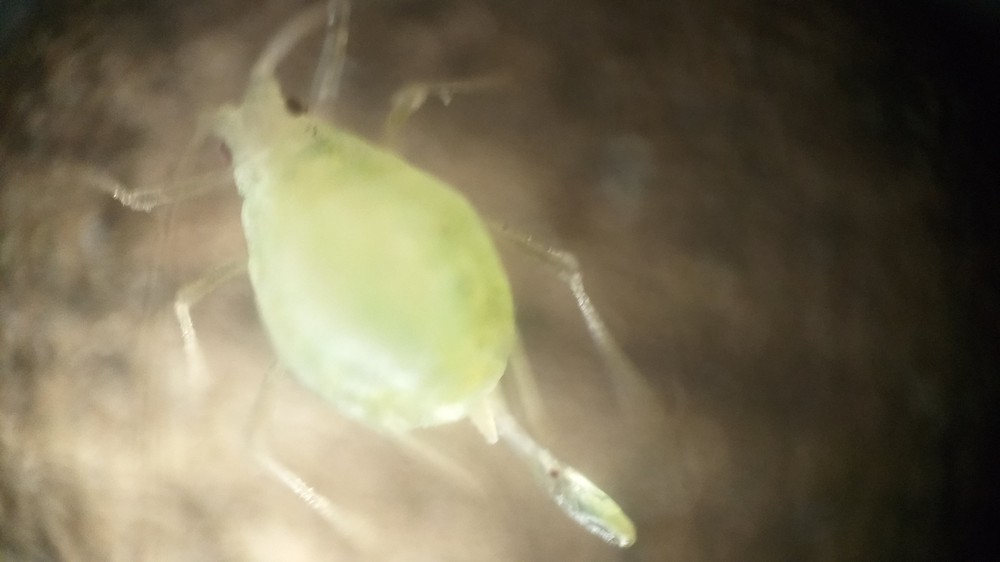Pulgon: (91, 5, 697, 556)
